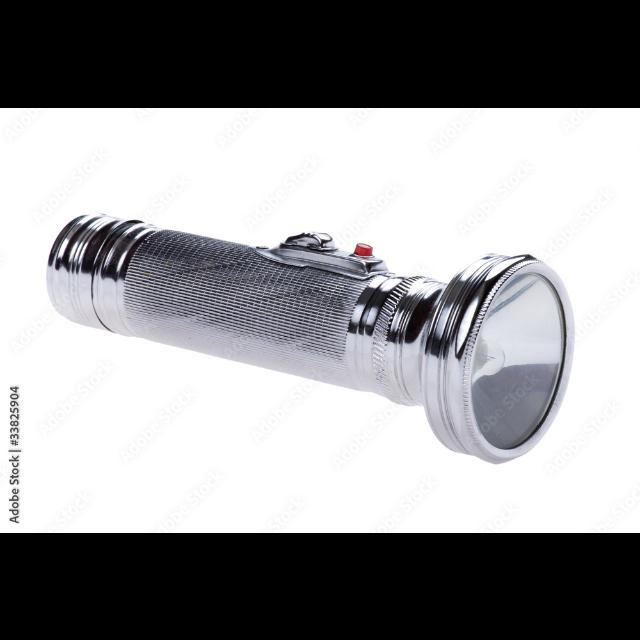Flashlight: (41, 206, 581, 470)
